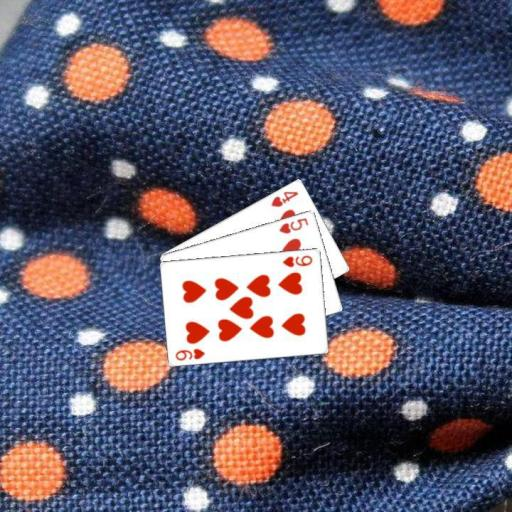4H: (268, 188, 300, 208)
5H: (276, 215, 310, 235)
9H: (280, 252, 315, 268), (173, 345, 206, 361)
